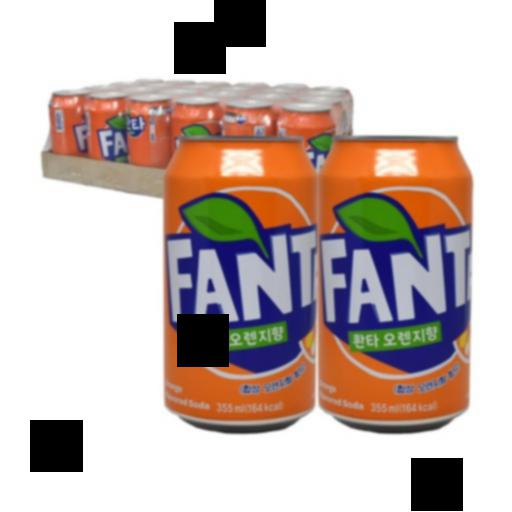fanta_orange: (308, 130, 495, 430), (155, 136, 322, 441)
